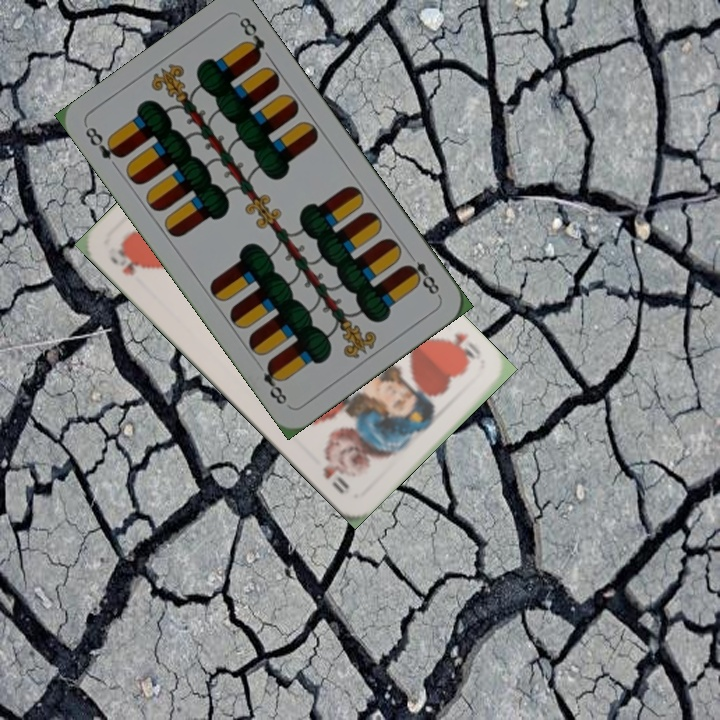E8: (401, 247, 443, 299), (81, 122, 126, 163)
HO: (438, 328, 484, 367), (105, 240, 147, 279)
